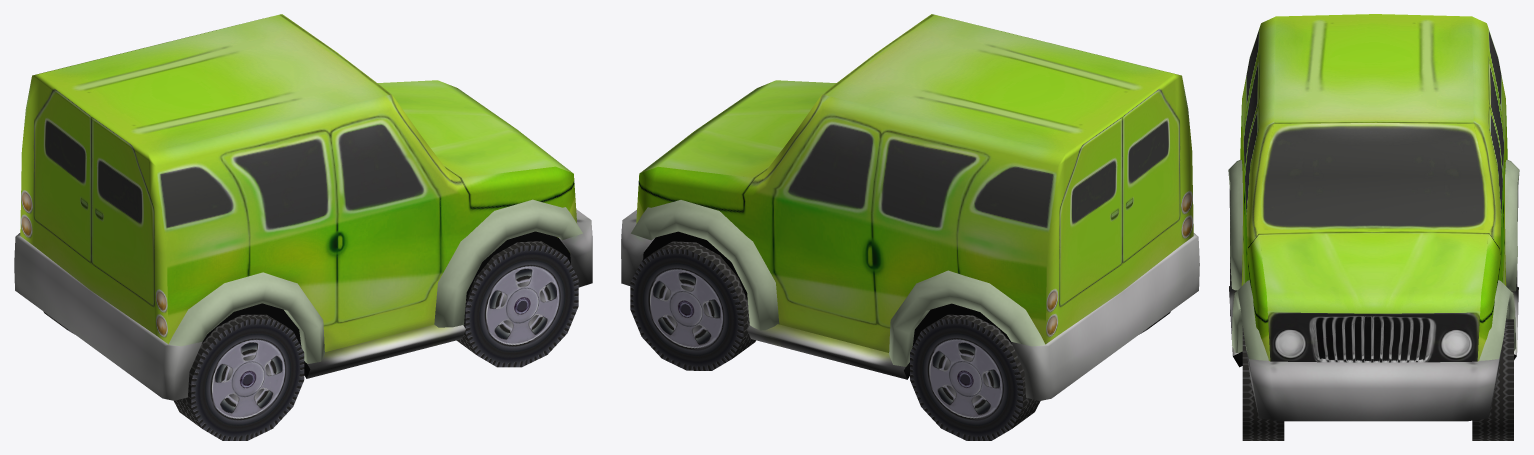
Rendered from jeep.FBX.
3 renders of one model, left to right at view 1: azimuth 30°, elevation 25°; view 2: azimuth 150°, elevation 25°; view 3: azimuth 270°, elevation 25°, orthographic. The views are drawn at different scales.
Visible parts, largest first — view 1: JEEP_BODY, side_object, back_lhs_wheel1, front_lhs_wheel1; view 2: JEEP_BODY, side_object, front_rhs__wheel1, back_rhs_wheel1; view 3: JEEP_BODY, side_object, front_rhs__wheel1, front_lhs_wheel1.
Boxes of the visible parts, <box> form: JEEP_BODY: <box>14,14,592,400</box>; side_object: <box>20,199,582,378</box>; back_lhs_wheel1: <box>174,314,304,440</box>; front_lhs_wheel1: <box>456,241,578,367</box>; JEEP_BODY: <box>621,14,1199,400</box>; side_object: <box>631,200,1194,379</box>; front_rhs__wheel1: <box>630,241,755,370</box>; back_rhs_wheel1: <box>910,314,1040,440</box>; JEEP_BODY: <box>1229,14,1518,421</box>; side_object: <box>1228,159,1519,367</box>; front_rhs__wheel1: <box>1472,319,1513,440</box>; front_lhs_wheel1: <box>1242,326,1284,440</box>.
Bounding box in the file's own units: 15.58 × 9.6 × 9.65.
6 materials, 6 textured.
